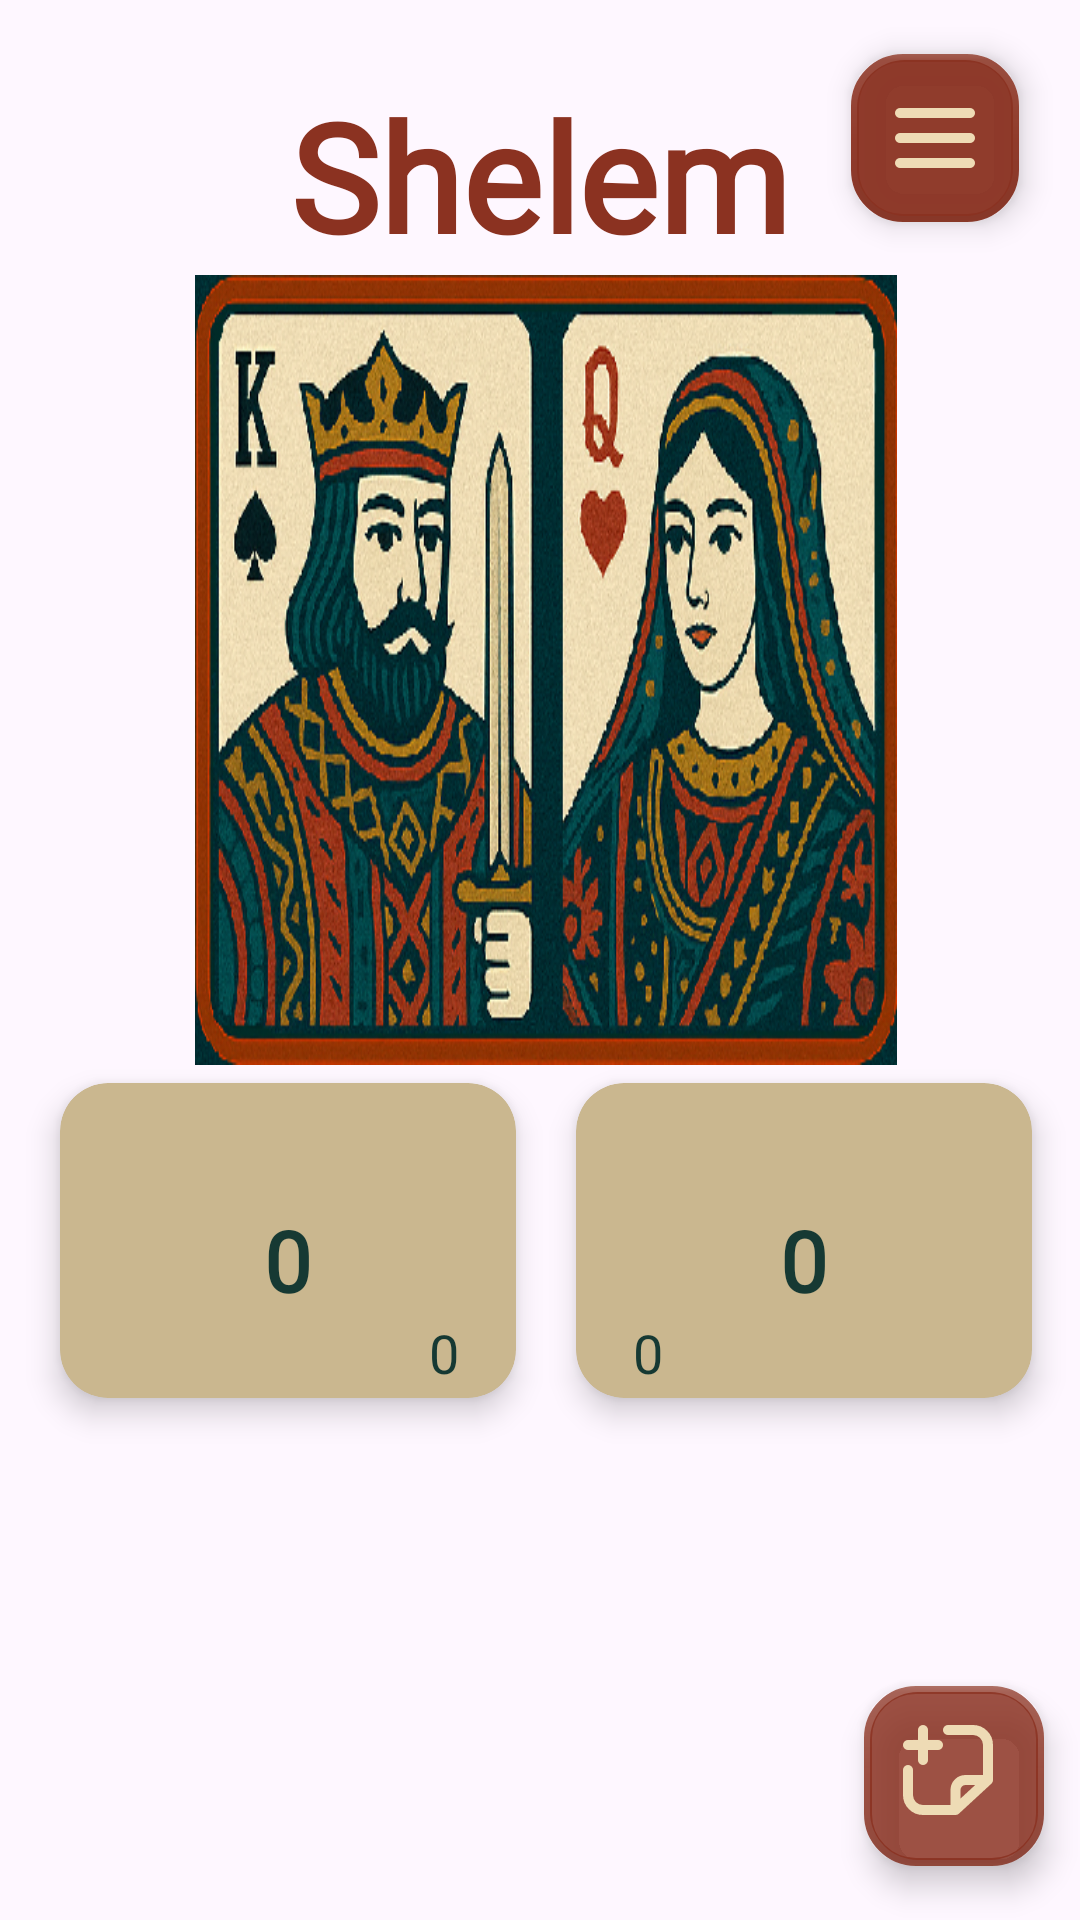

Point at icon controls on the screen. Image size 1080*1920, points as (x,y).
add note: (955,1785)
menu: (936,138)
